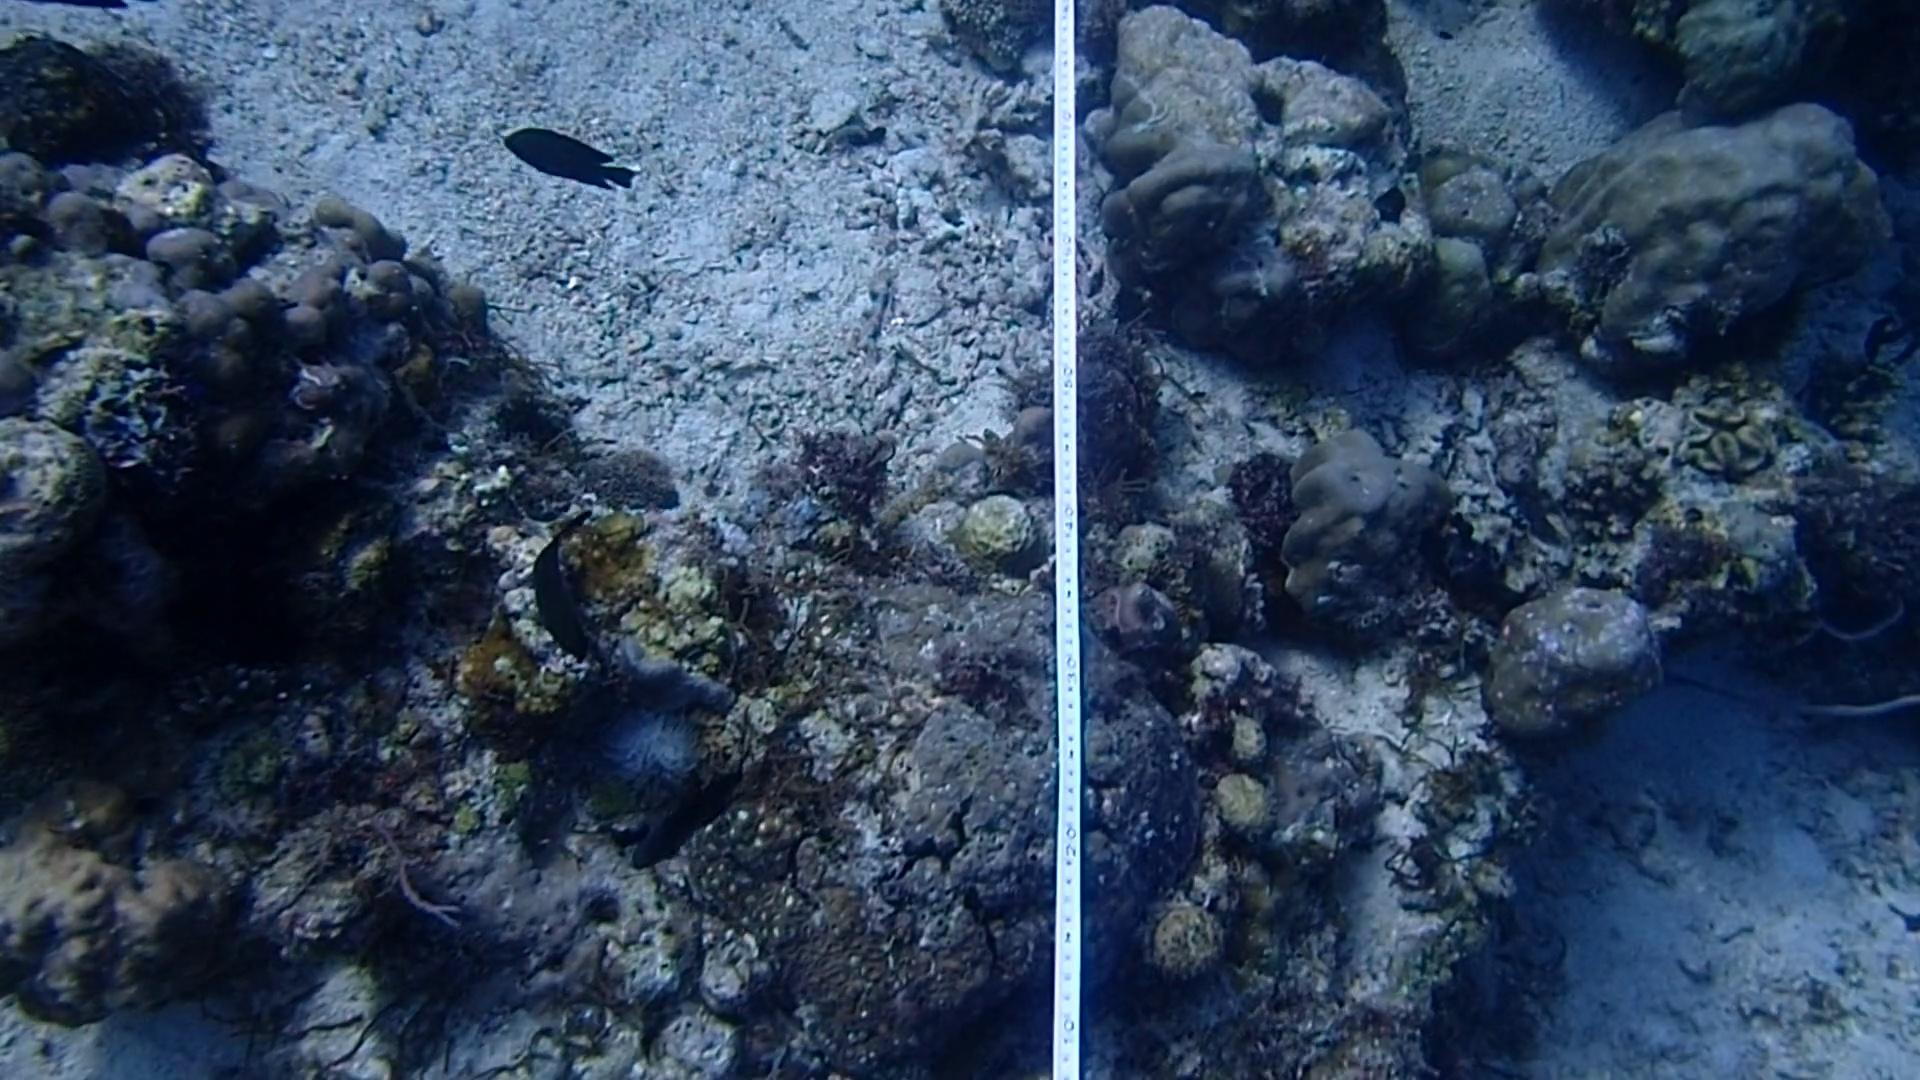Dark Fish: (496, 113, 647, 207), (520, 509, 603, 667), (628, 762, 745, 872)
